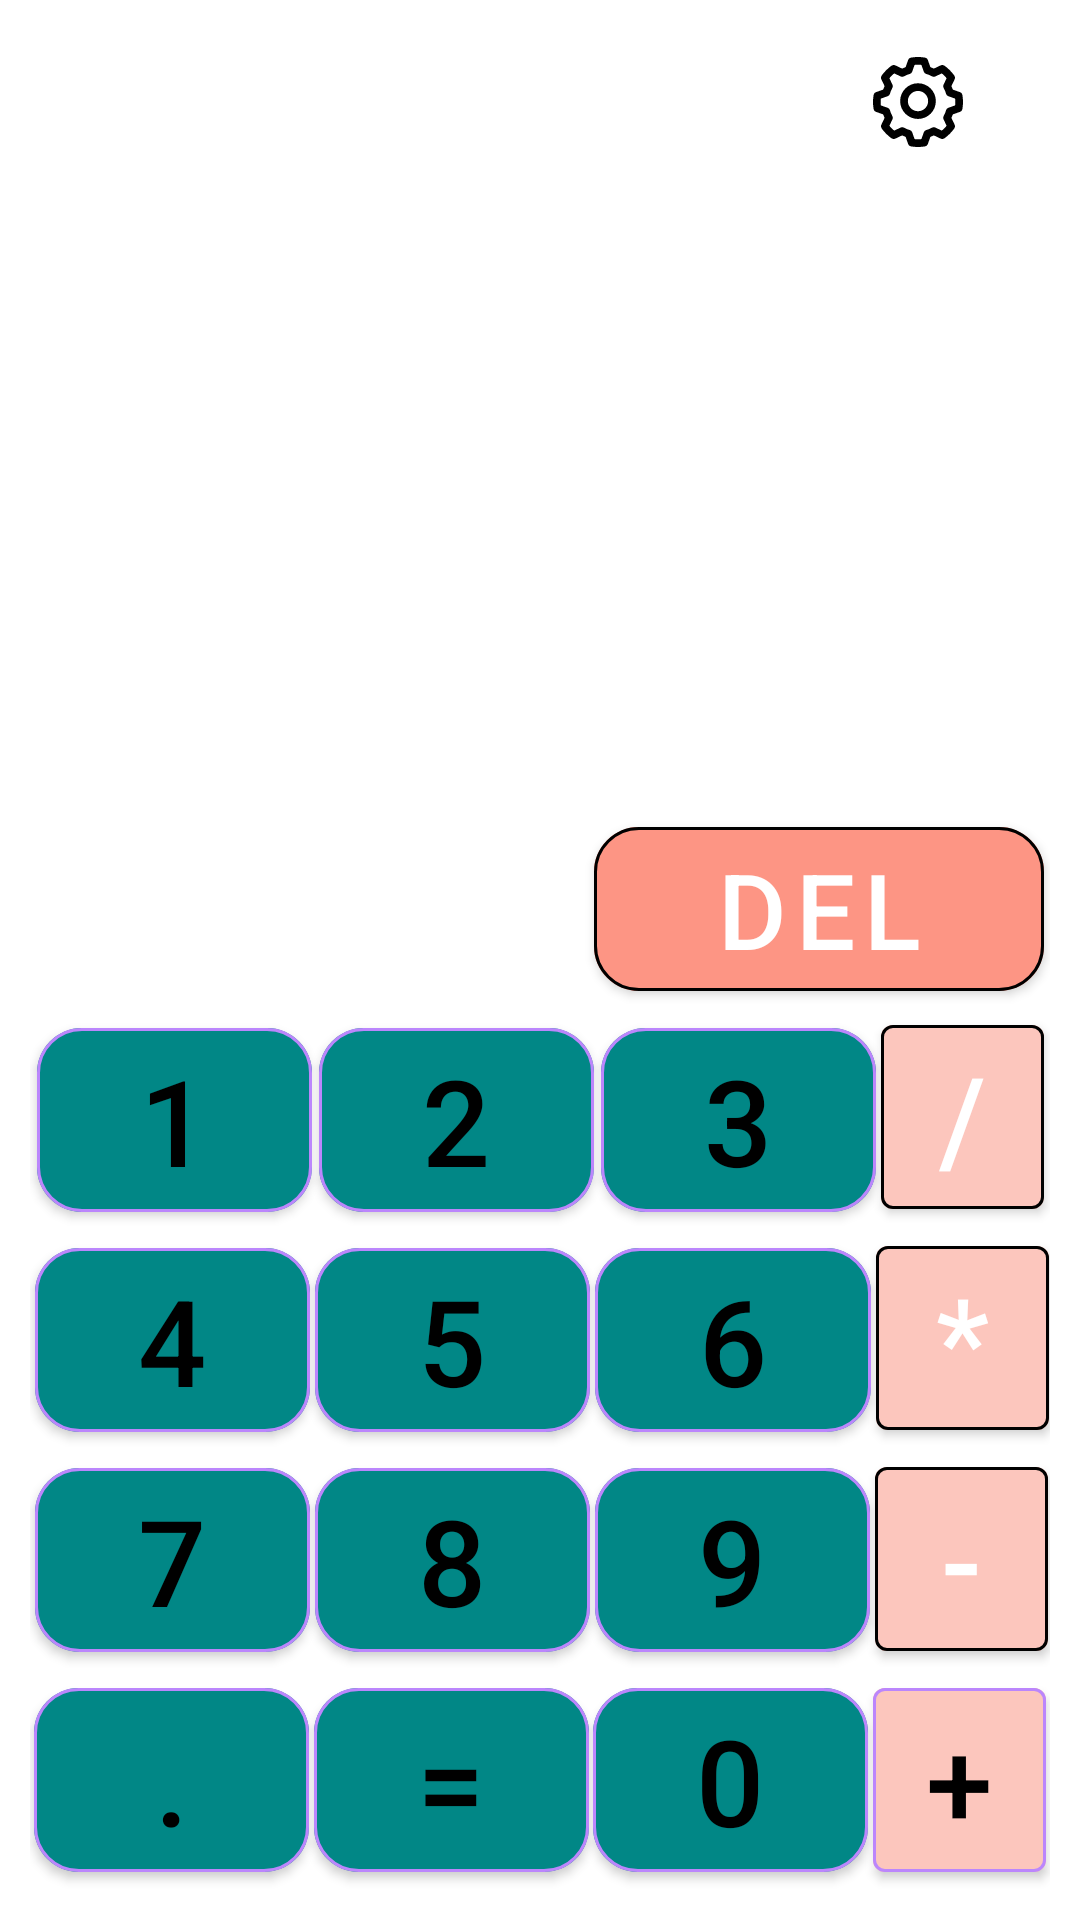

Locate icon controls on the screen. Image size 1080 × 1920, boxes as (x1, y1, x2, y2).
settings: (873, 57, 963, 147)
